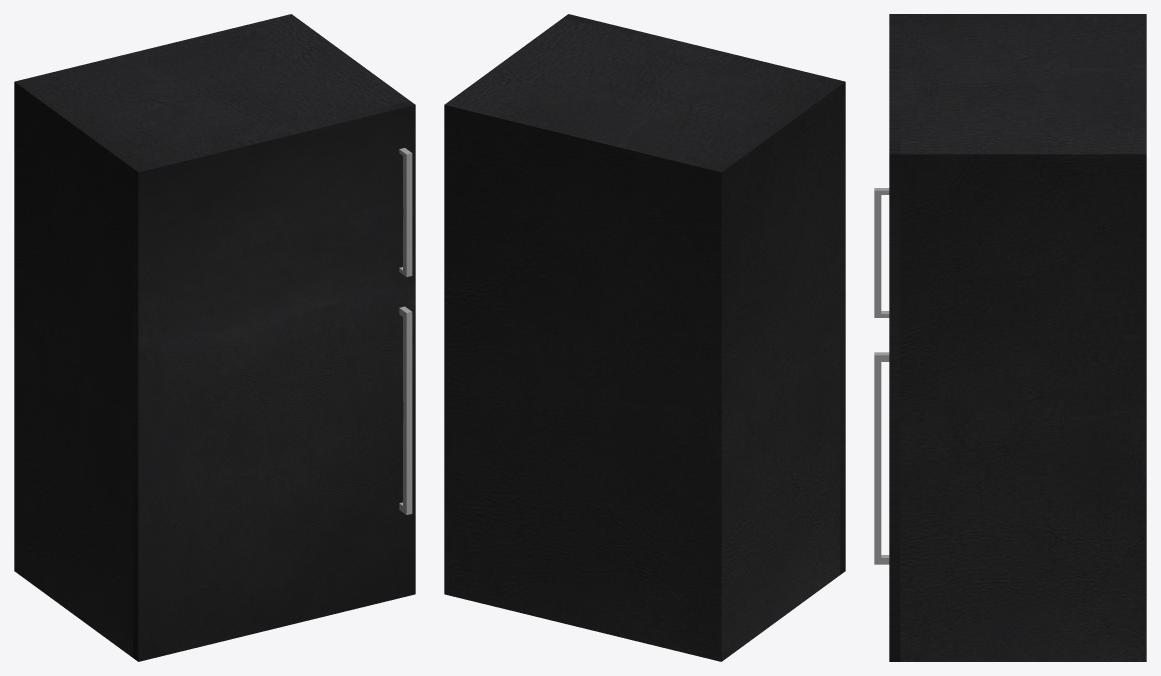
The model's file is fridge.fbx.
3 views of the same model, side by side, from view 1: azimuth 30°, elevation 25°; view 2: azimuth 150°, elevation 25°; view 3: azimuth 270°, elevation 25° (orthographic). The views are drawn at different scales.
Visible parts, largest first — view 1: Fridge, door_bottom, door_top, bottom_handle, top_handle; view 2: Fridge, door_top, door_bottom; view 3: Fridge, door_top, door_bottom, bottom_handle, top_handle.
Boxes of the visible parts, x1,y1,x2,y2 form: Fridge: (14, 14, 409, 657); door_bottom: (133, 284, 415, 661); door_top: (133, 101, 415, 351); bottom_handle: (399, 306, 412, 514); top_handle: (399, 148, 412, 276); Fridge: (444, 18, 840, 661); door_top: (563, 14, 845, 261); door_bottom: (840, 258, 845, 574); Fridge: (900, 14, 1146, 661); door_top: (889, 14, 900, 340); door_bottom: (889, 340, 900, 661); bottom_handle: (874, 352, 889, 564); top_handle: (874, 188, 889, 317).
Size of the model in its own units: 1.08 by 1.82 by 0.8852.
5 materials, 2 textured.
